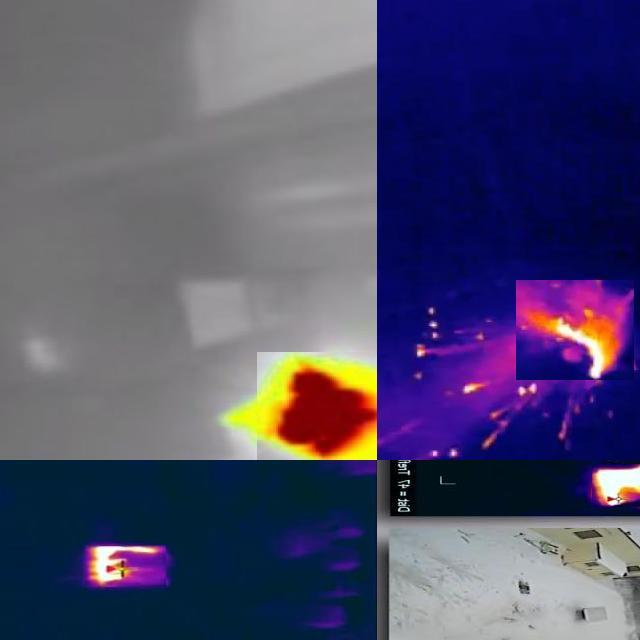fire: (256, 352, 378, 461), (516, 281, 634, 381), (85, 546, 166, 588), (592, 465, 640, 508)
